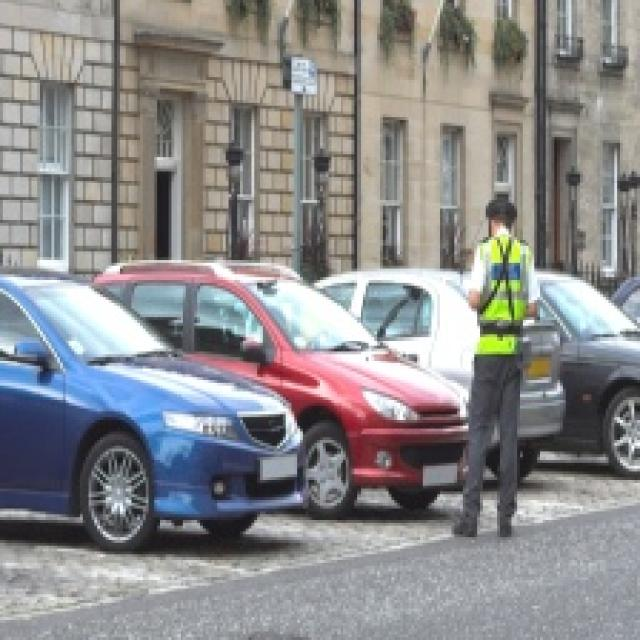car: (135, 256, 476, 510), (7, 255, 312, 515)
